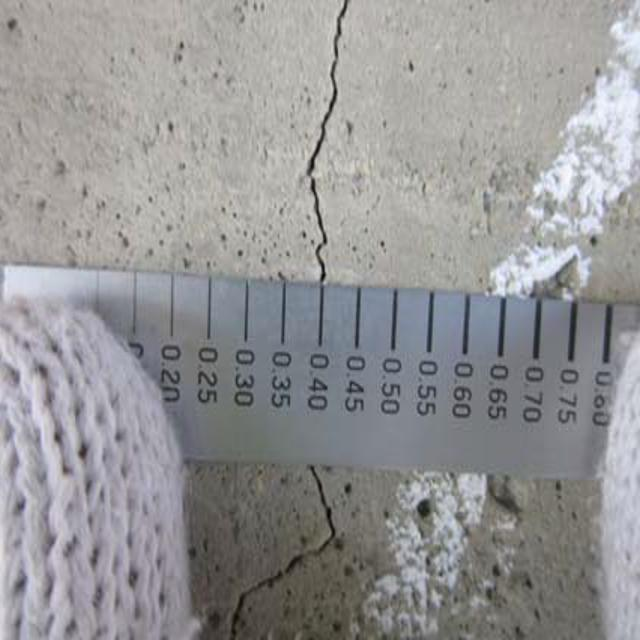crack: (213, 474, 367, 640), (287, 5, 362, 298)
